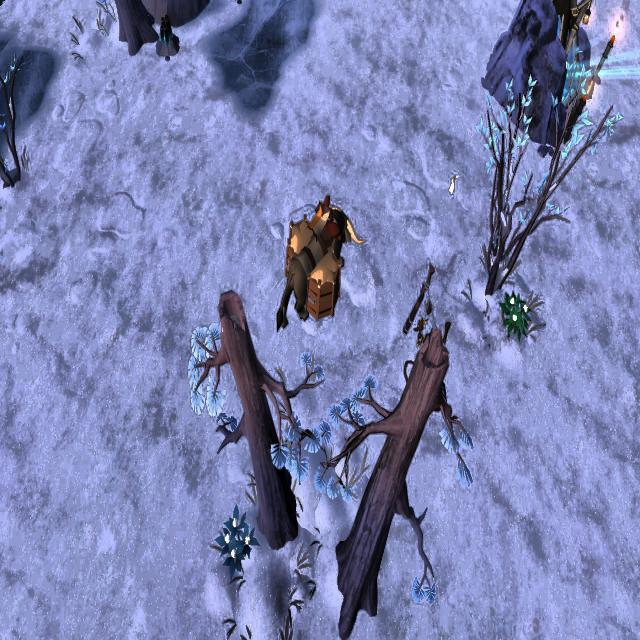fiber_t3: (499, 290, 530, 338)
fiber_t4: (213, 502, 256, 575)
ore_t4: (158, 12, 174, 56)
